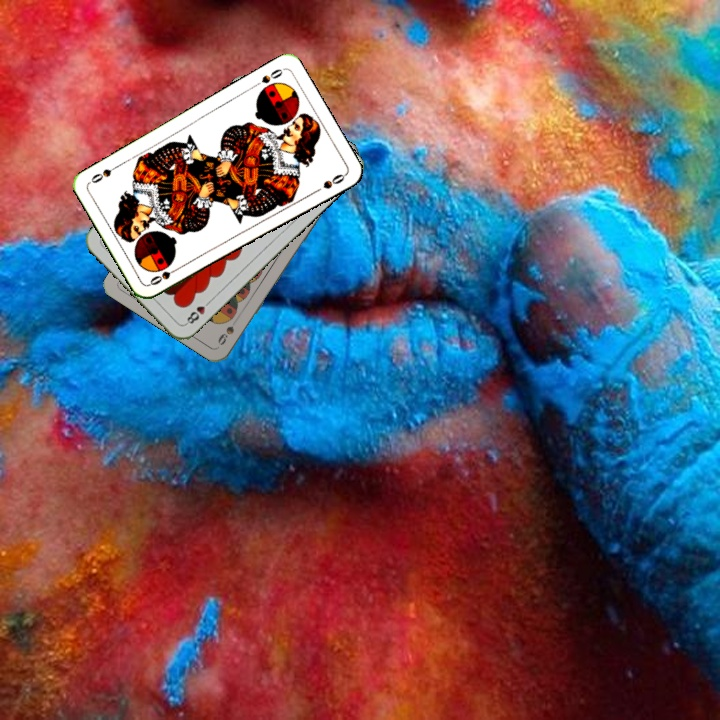H8: (181, 296, 214, 327)
S9: (213, 312, 242, 348)
SO: (146, 262, 183, 288), (249, 65, 286, 90)
